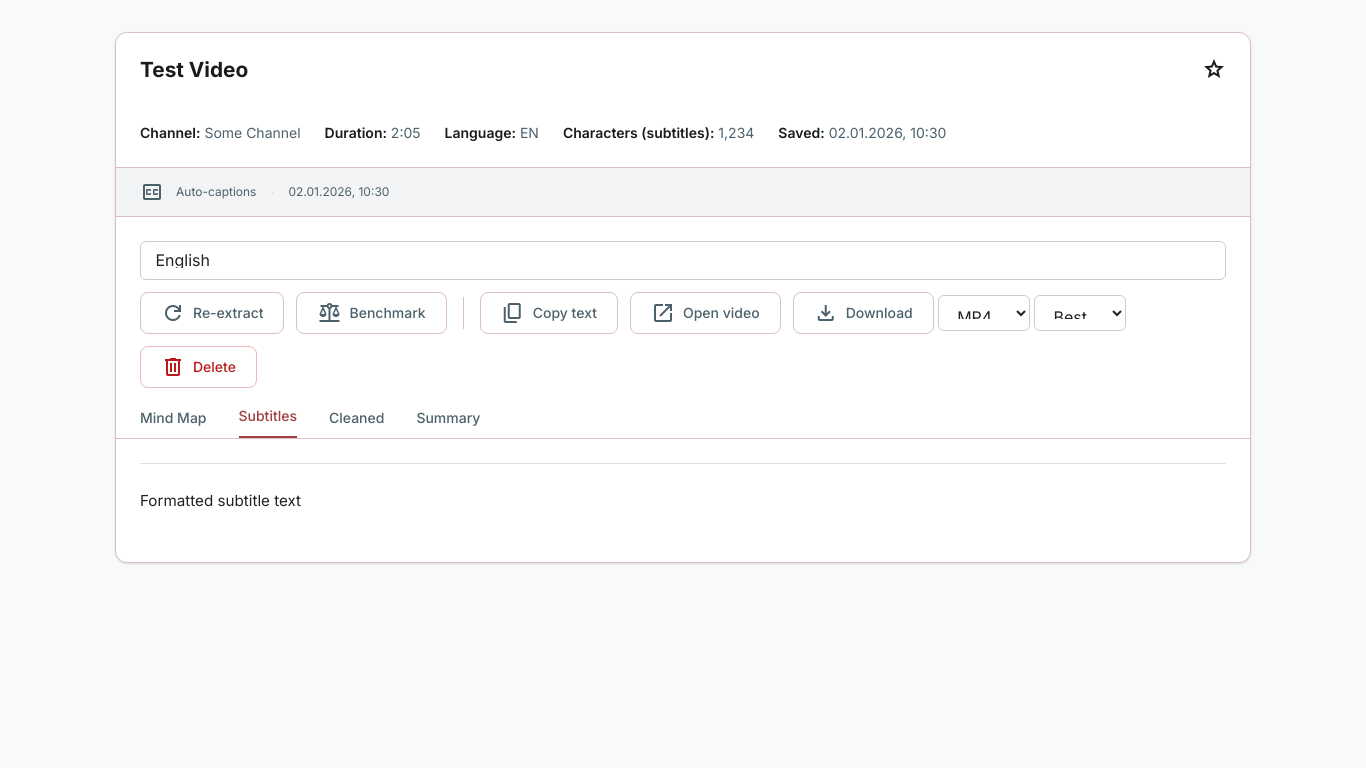
Test case: ResultPage › Summarize before any cleanup: the page asks (no browser dialog) and Cancel queues nothing
This screenshot has width=1366, height=768.
Check: the heading "Test Video" is shown, box [140, 57, 248, 82]
Click the button "Summary" at (448, 424), box [416, 410, 480, 438]
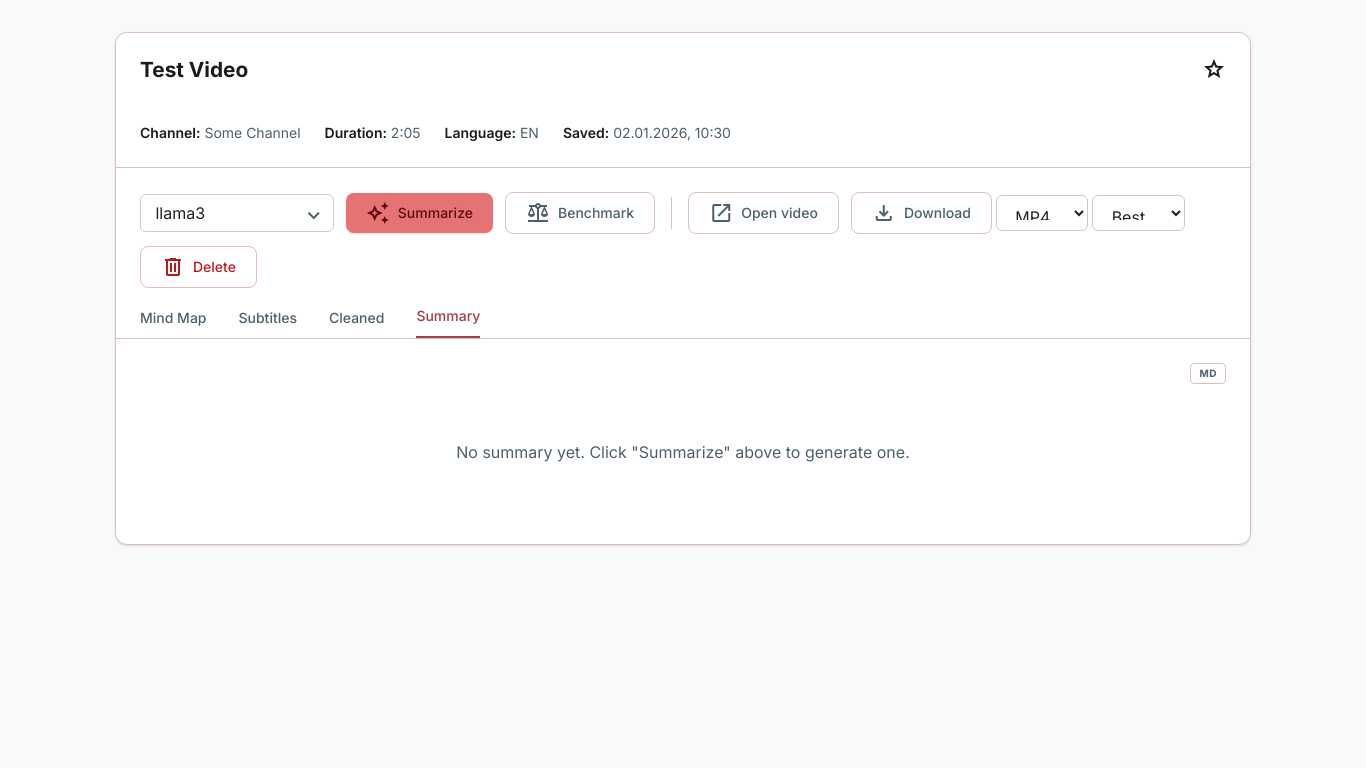
Click the button "Summarize" at (419, 213), box [346, 193, 493, 233]
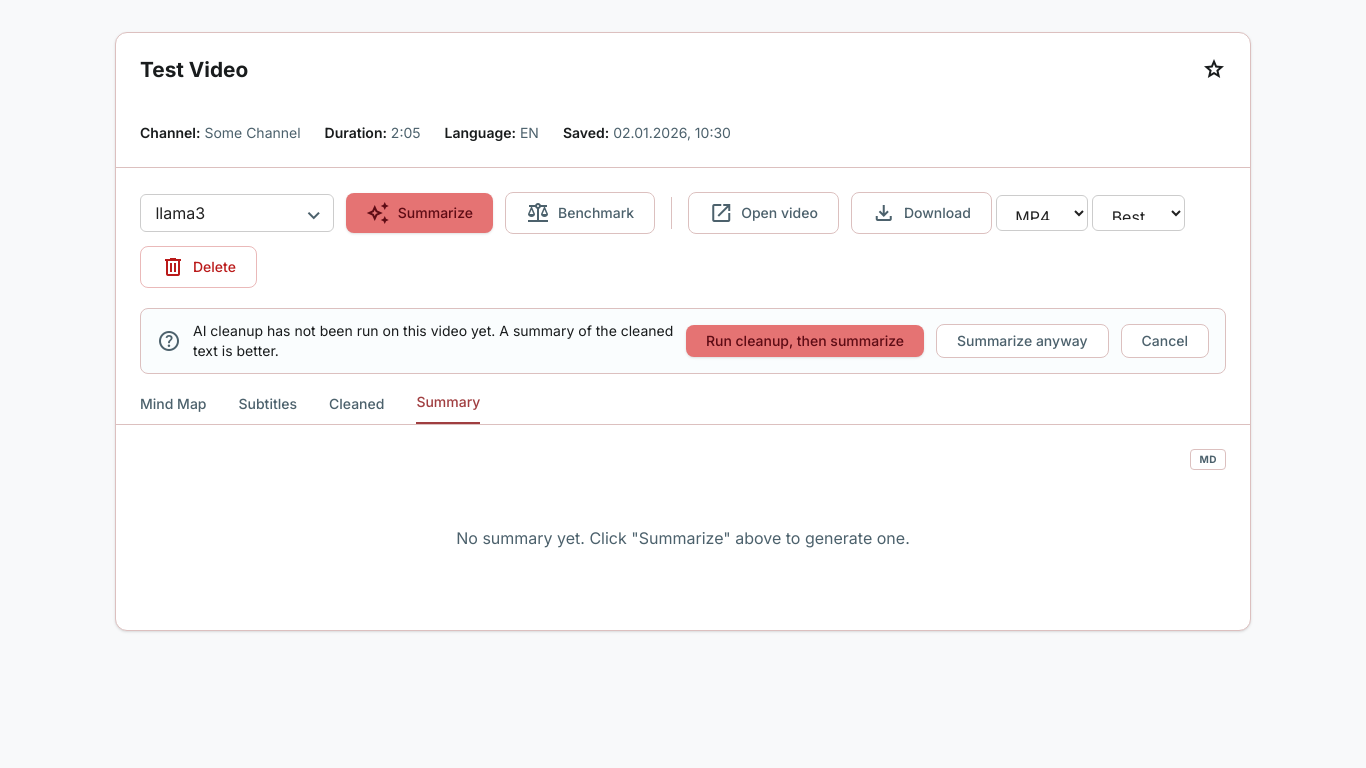
Check: the text "AI cleanup has not been run on this video yet" is shown, box [193, 322, 673, 359]
Click the button "Cancel" at (1165, 341), box [1120, 324, 1209, 358]
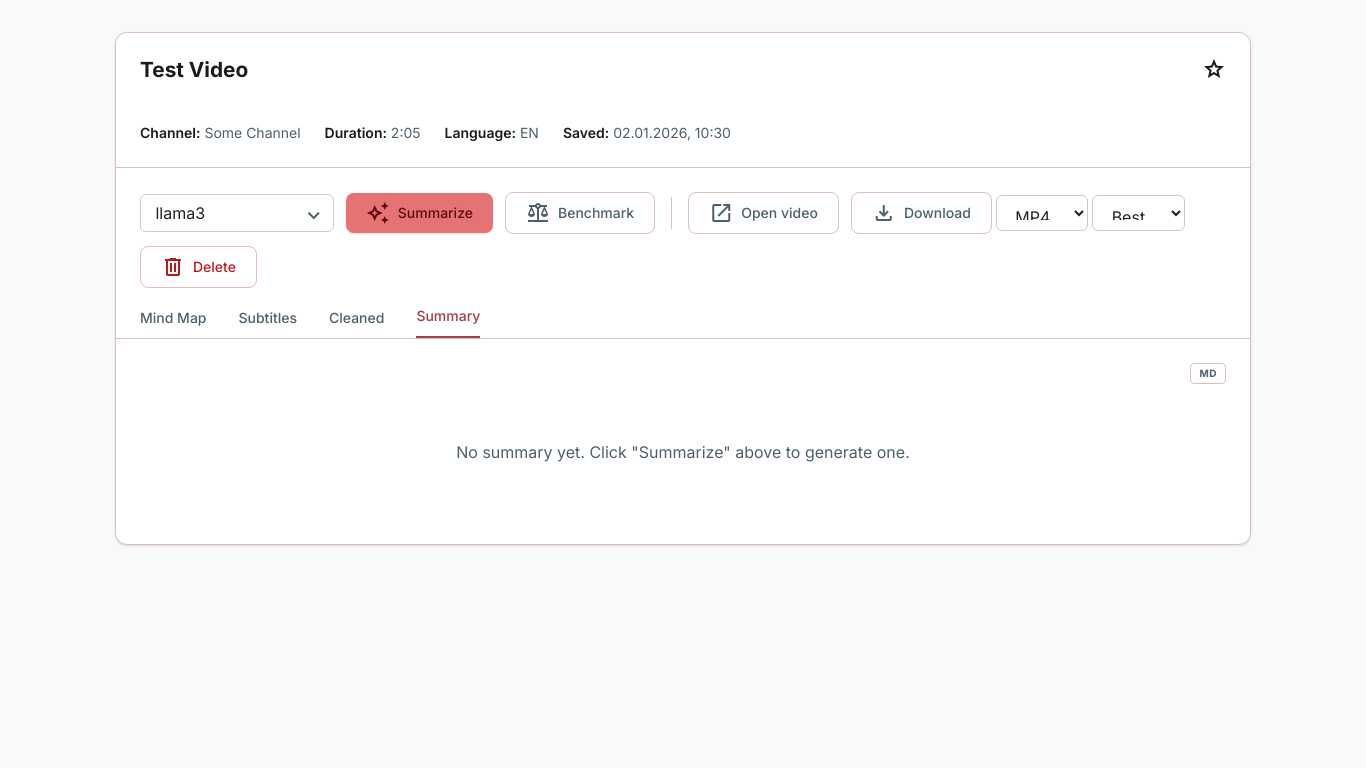
Check: the text "AI cleanup has not been run on this video yet" is gone
